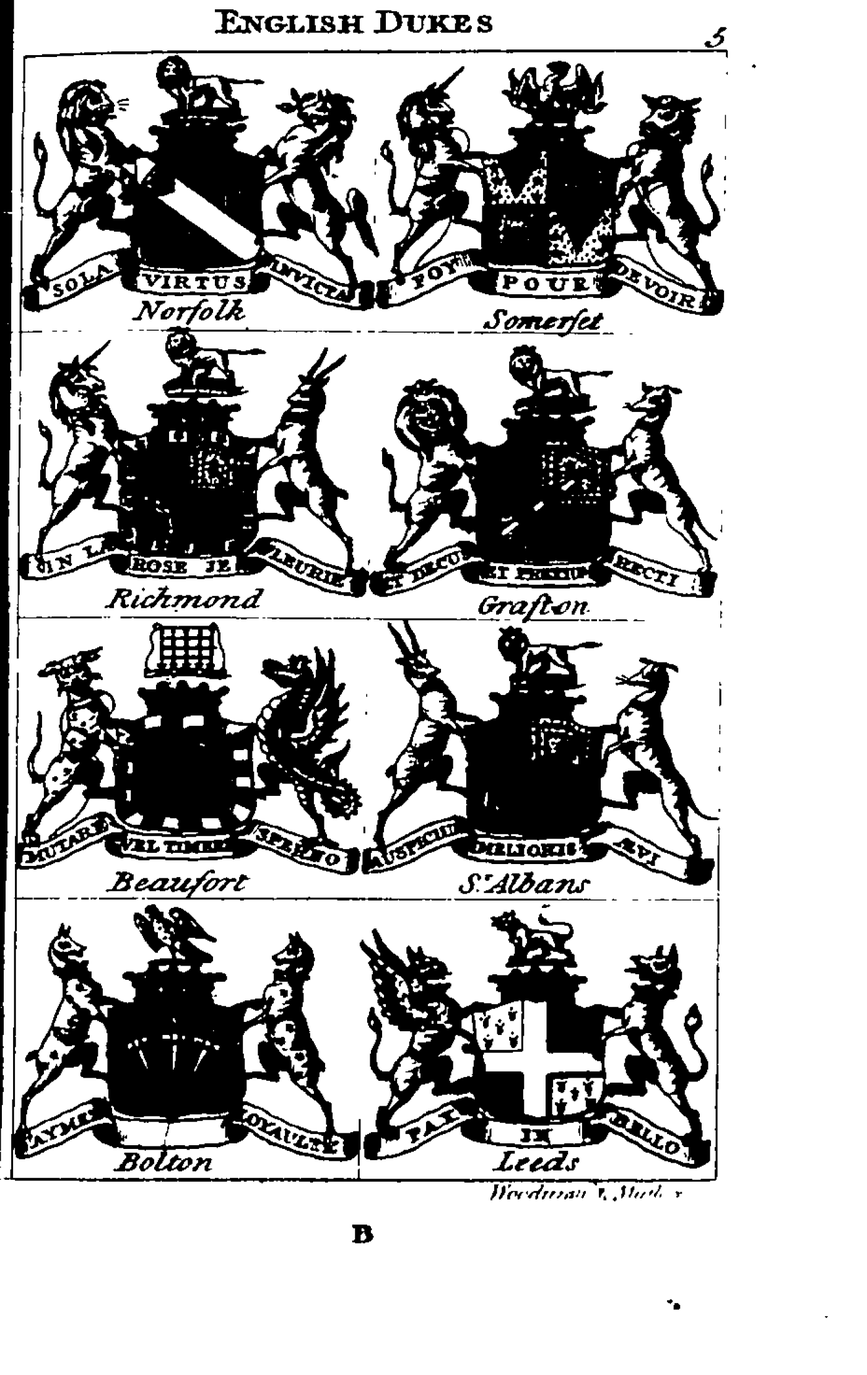coat_of_arms: (23, 329, 370, 621), (372, 332, 721, 618), (10, 618, 361, 898), (379, 55, 731, 334), (15, 898, 363, 1179), (370, 616, 712, 901), (360, 909, 719, 1175), (34, 60, 379, 329)
